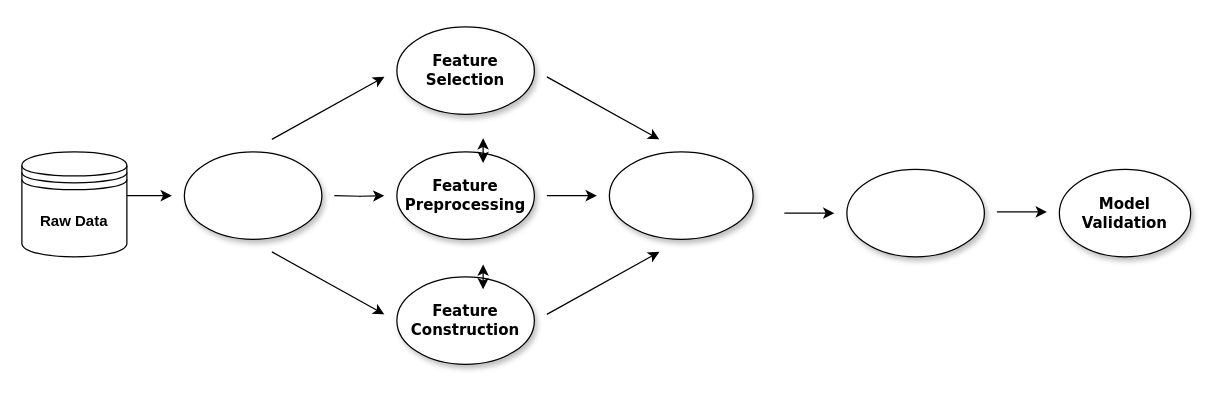
The diagram is 1220 pixels wide and 395 high, and some of its shapes have lost their labels. The centre of each missing label's shape, as x and y in pixels:
Data Cleaning: the point at 253,197
Model Selection: the point at 682,197
Parameter Optimization: the point at 916,214
